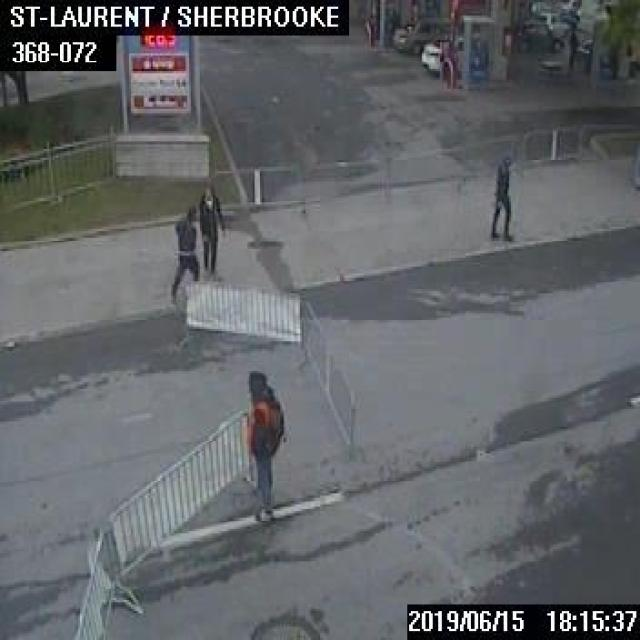pedestrian: (244, 367, 282, 520), (170, 204, 198, 301), (197, 184, 224, 280), (488, 153, 511, 240), (566, 28, 578, 68)
vehicle: (390, 15, 459, 54), (420, 32, 460, 73), (514, 22, 562, 50), (522, 10, 567, 38)
